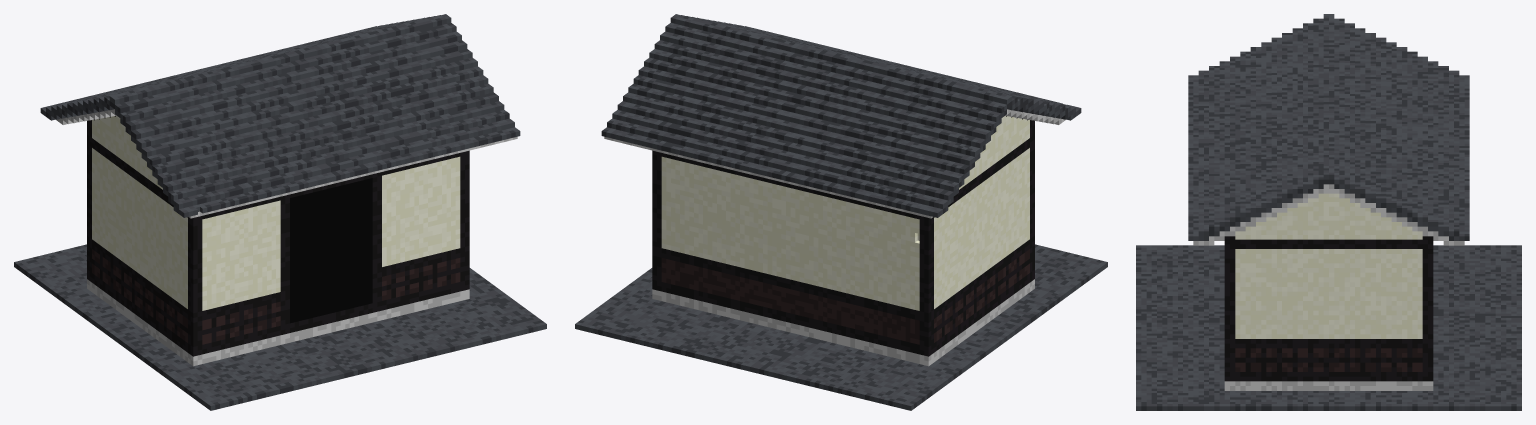
File: 0Build4.obj
3 renders of one model, left to right at view 1: azimuth 30°, elevation 25°; view 2: azimuth 150°, elevation 25°; view 3: azimuth 270°, elevation 25°, orthographic. The views are drawn at different scales.
Size of the model in its own units: 7.3 by 5 by 7.4.
Materials: 1 (1 with a texture image).
